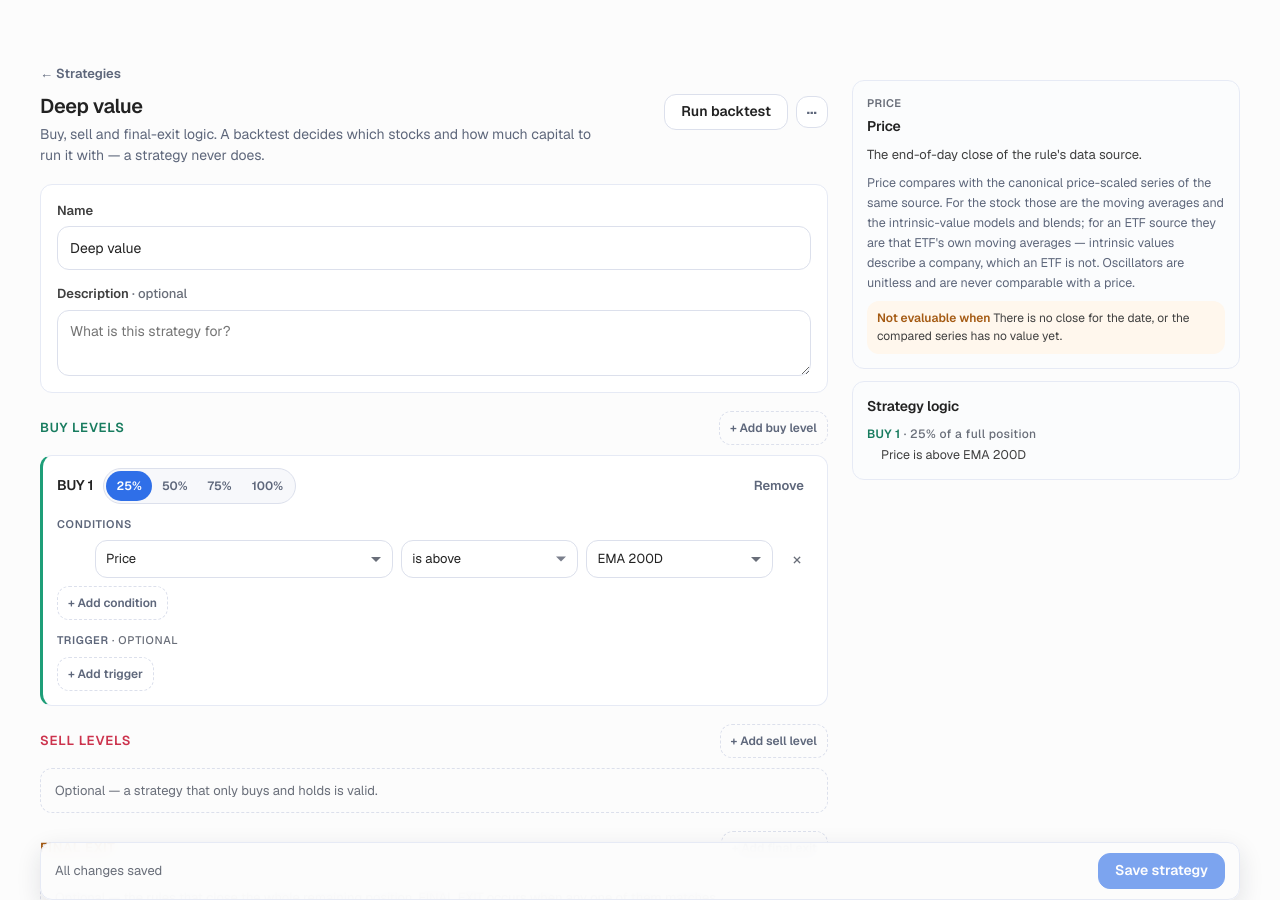
Scenario: StrategyBuilder › makes removing a level with authored logic recoverable (UI-014)
The width and height of the screenshot is (1280, 900).
Click the button with aria-label "Remove BUY 1". click: x=779, y=486
box: [745, 470, 813, 502]
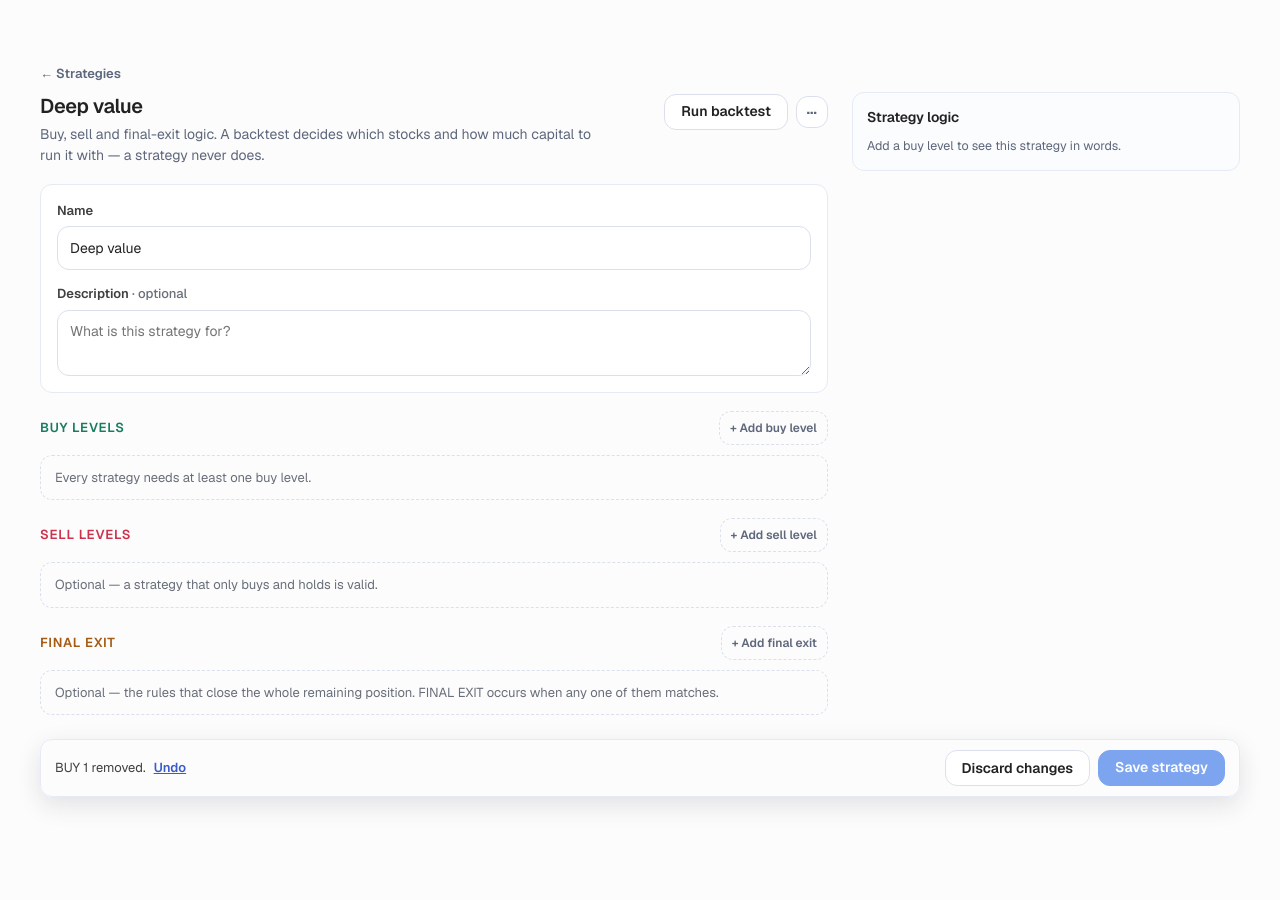
Check: no list items with test id "level-card-BUY" are shown
Check: the element with test id "strategy-undo" shows "BUY 1 removed", box [55, 758, 186, 778]
Click the button "Undo". click: x=170, y=768
box: [154, 758, 186, 778]
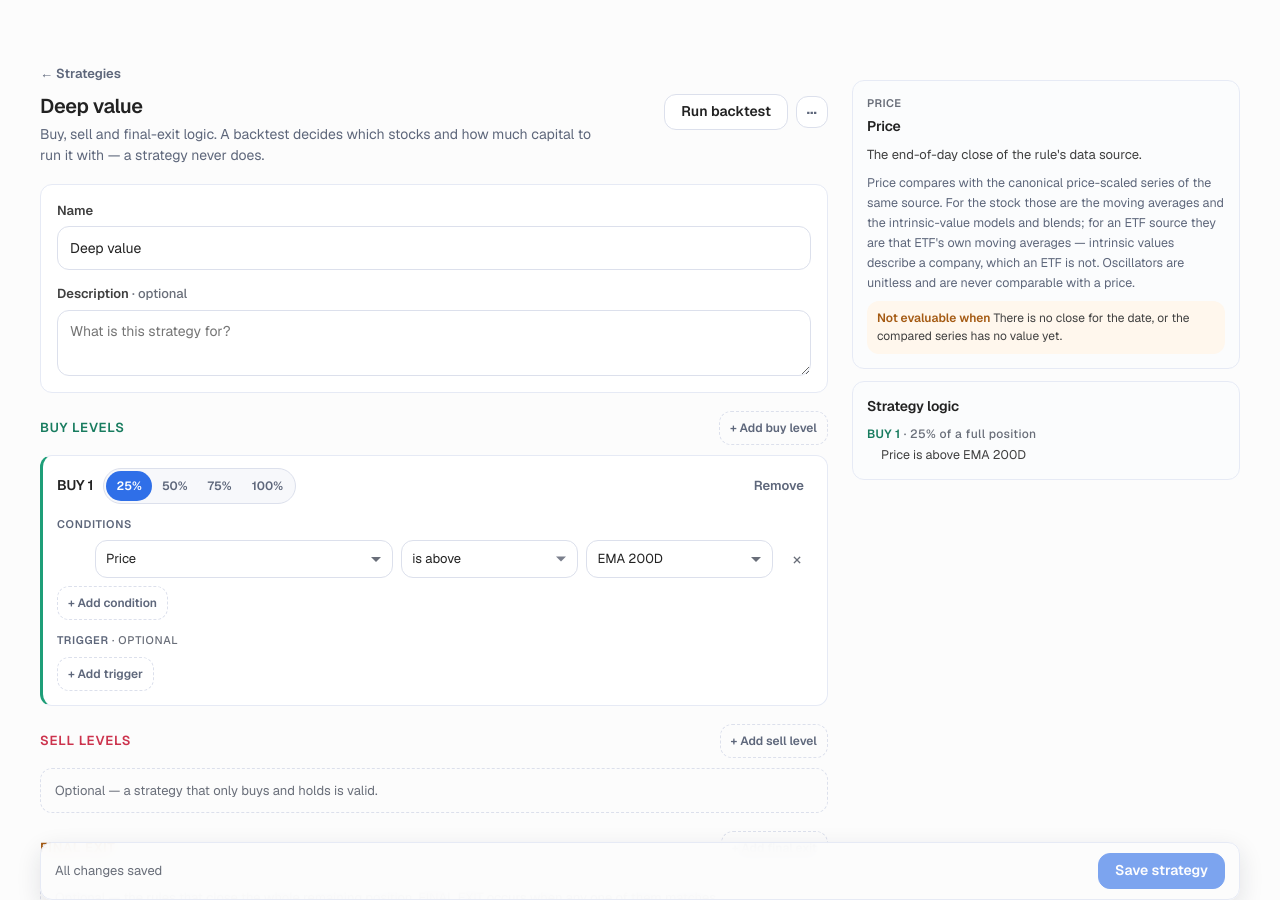
Check: the number of list items with test id "level-card-BUY" is 1, box [40, 454, 828, 706]
